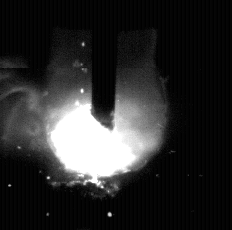arame: (92, 0, 116, 130)
poca: (45, 0, 165, 230)
